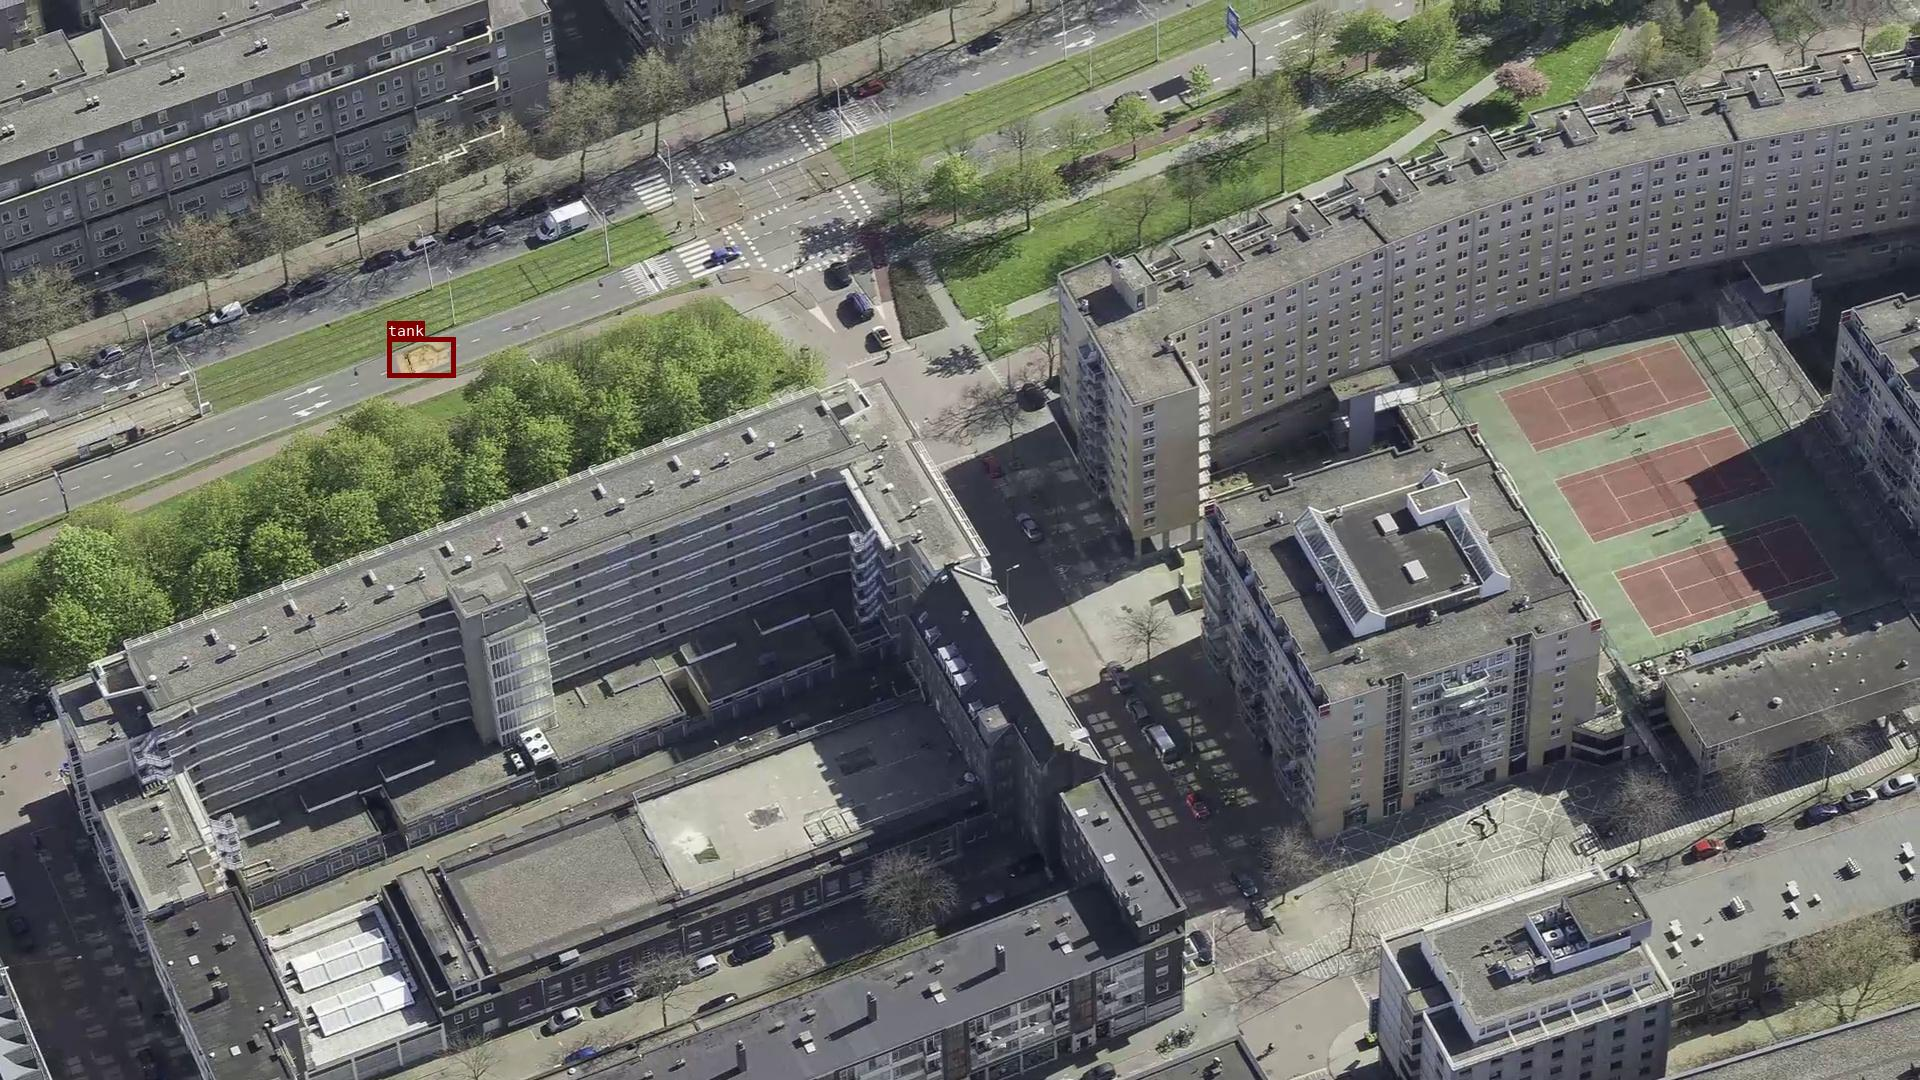tank: (386, 338, 455, 377)
